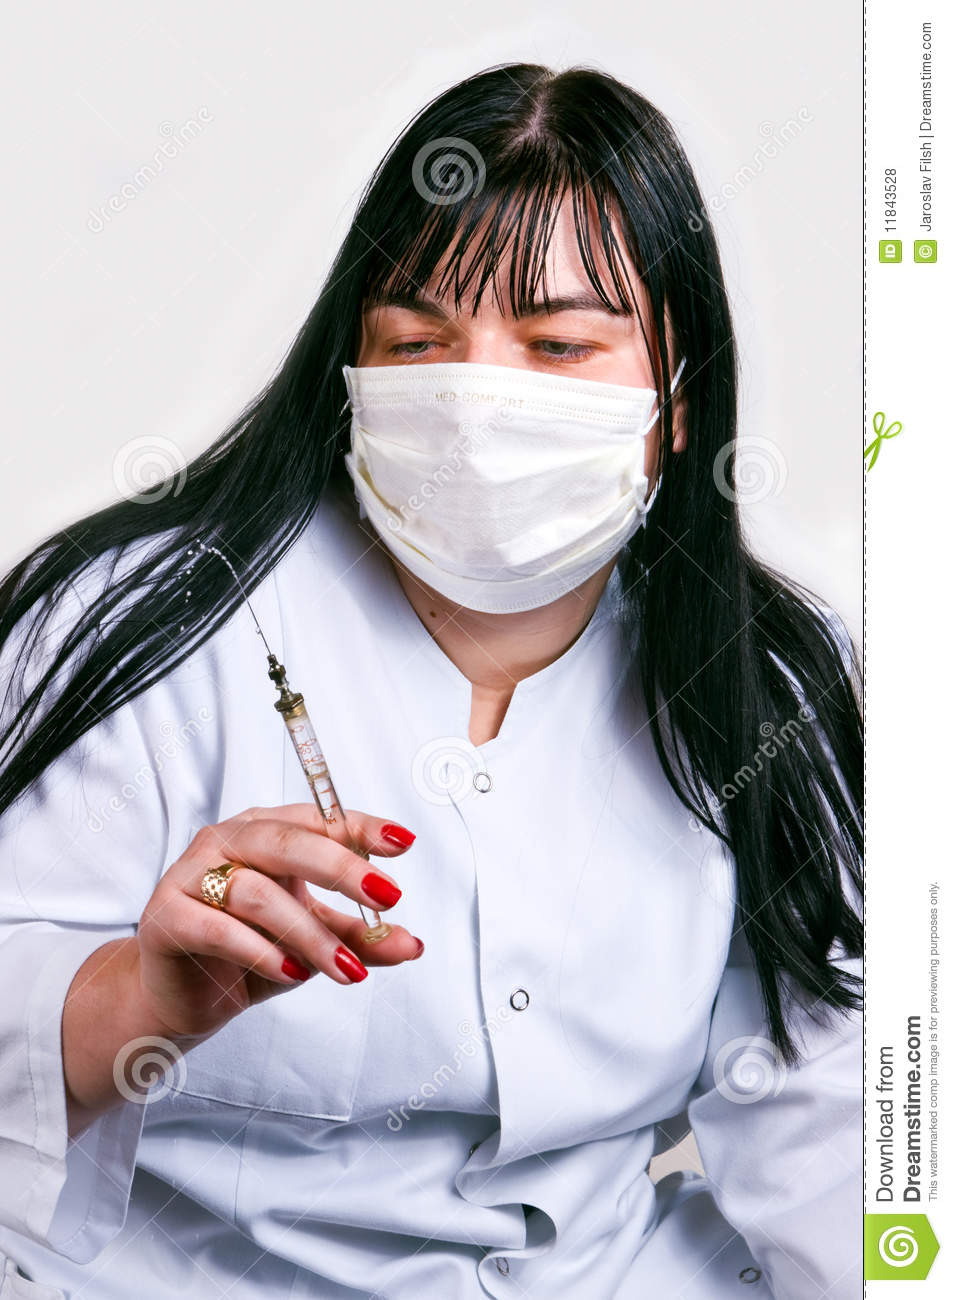mask: (346, 371, 650, 595)
